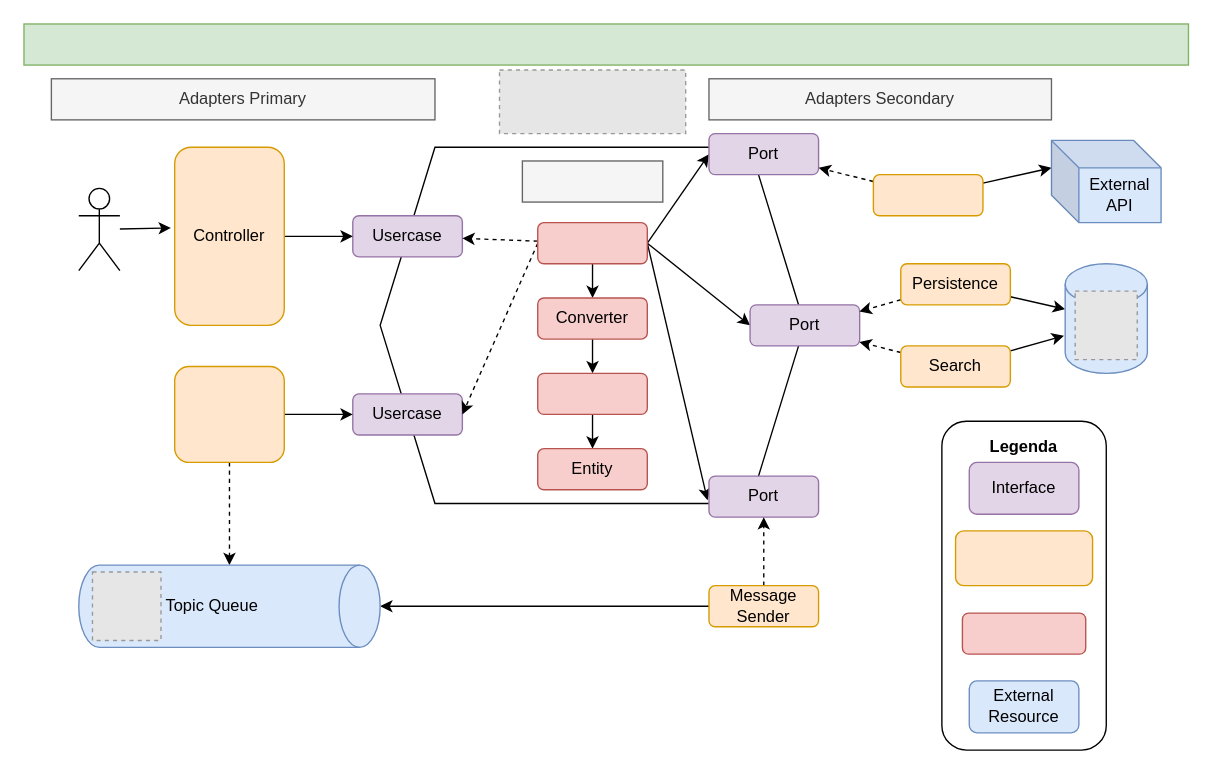
Image size: 1212x774. Some labels were removed from this diagram. Grey dashed boxes stand in for pictures. Here are the shapes that lost their labels. From the top down, the centre of each, then its label:
At point (605, 44): "Hexagonal Achitecture".
At point (592, 181): "Domain Object".
At point (927, 194): "Rest Client".
At point (98, 229): "Client REST".
At point (591, 242): "Service".
At point (228, 413): "Consumer".
At point (591, 393): "BO".
At point (1023, 558): "Immutable Class".
At point (1023, 633): "Mutable Class".
